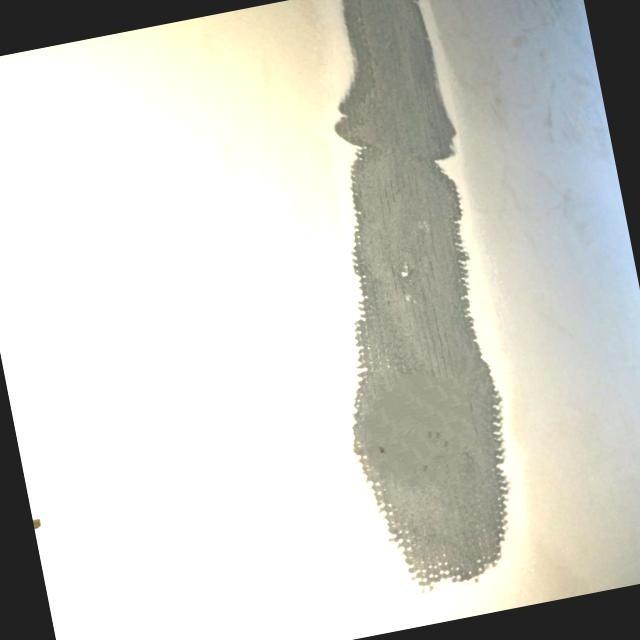surface_peeling: (265, 0, 542, 605)
